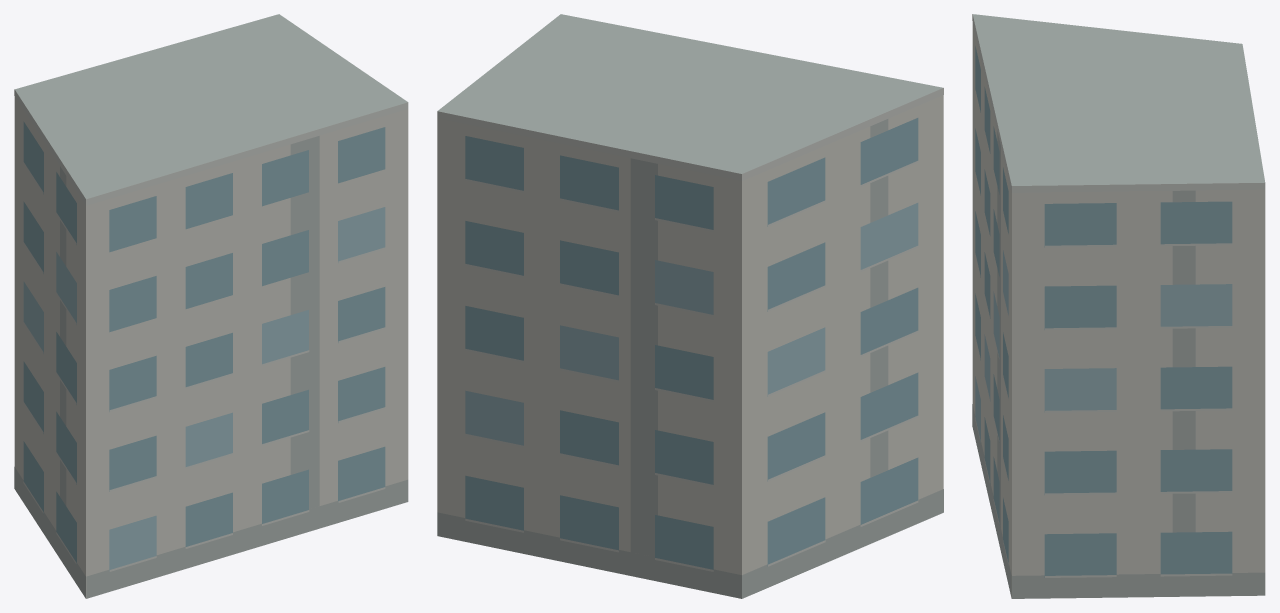
File: survey-upis-32805922.glb
3 renders of one model, left to right at view 1: azimuth 30°, elevation 25°; view 2: azimuth 150°, elevation 25°; view 3: azimuth 270°, elevation 25°, orthographic. The views are drawn at different scales.
Visible parts, largest first — view 1: survey-upis-32805922.tmp; view 2: survey-upis-32805922.tmp; view 3: survey-upis-32805922.tmp.
Part boxes in pixels (x1,y1,x2,y2): survey-upis-32805922.tmp: [14, 14, 408, 598]; survey-upis-32805922.tmp: [437, 14, 943, 598]; survey-upis-32805922.tmp: [972, 14, 1265, 598].
Bounding box in the file's own units: 12.97 × 14.5 × 9.33.
